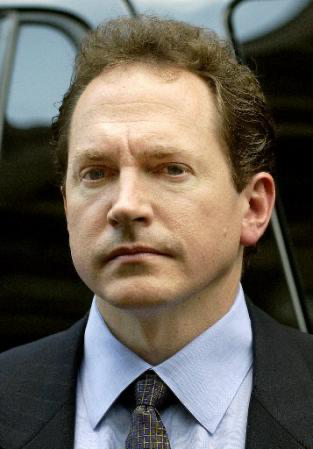Face: (65, 95, 231, 315)
